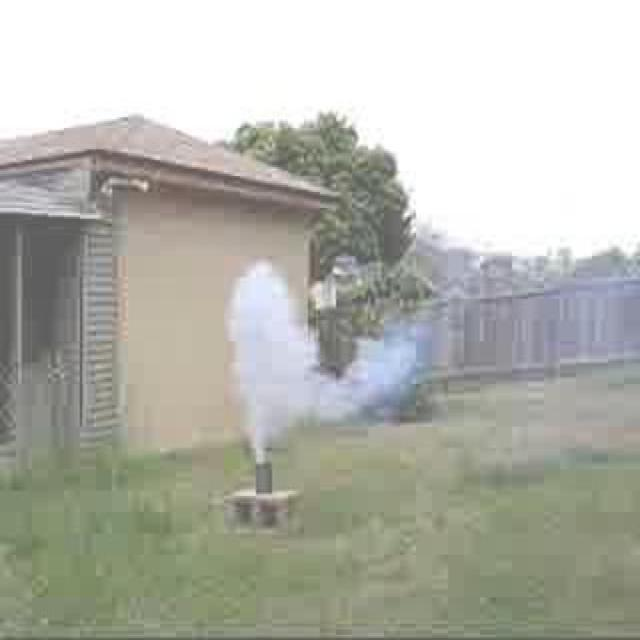Smoke: (226, 256, 417, 465)
